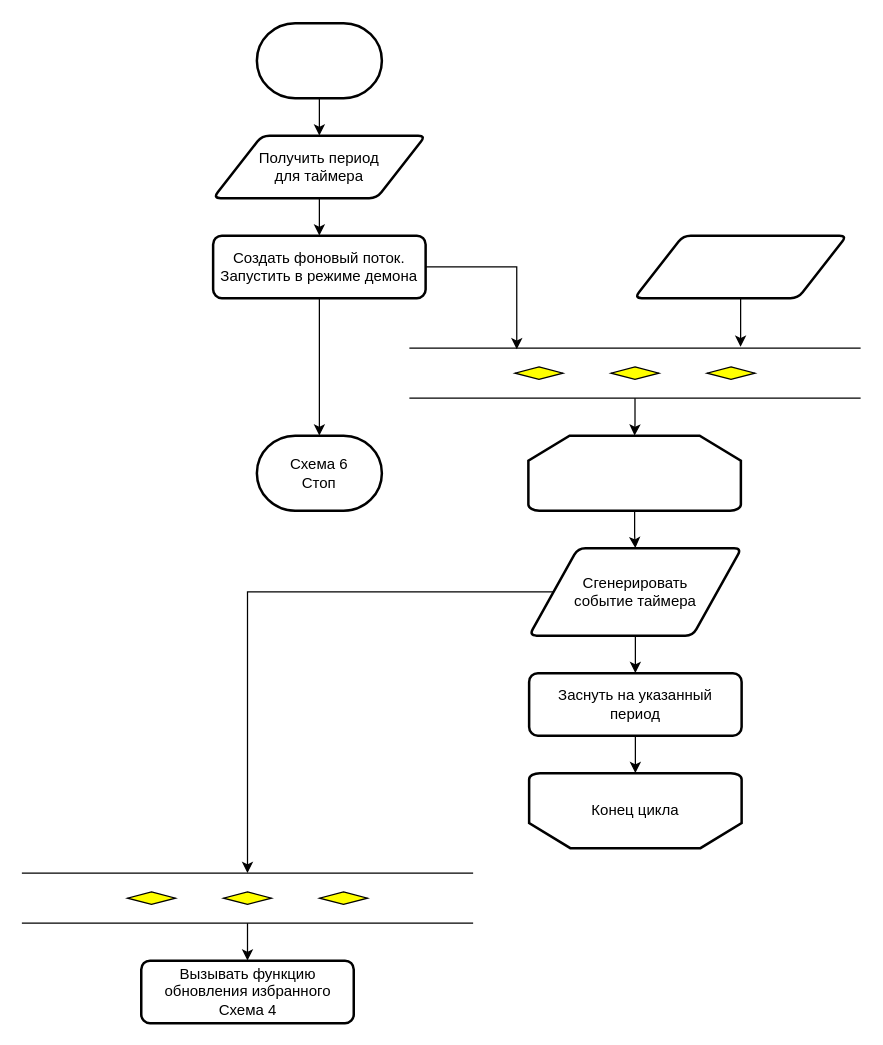
Some shapes in this 883 by 1045 pixel diagram are drawn without their labels. The centre of each missing label's shape, as x and y in pixels:
"Схема 6 Старт" belongs at (318,60).
"Флаг останова" belongs at (740,266).
"Цикл продолжается, пока не установлен флаг останова" belongs at (634,472).
